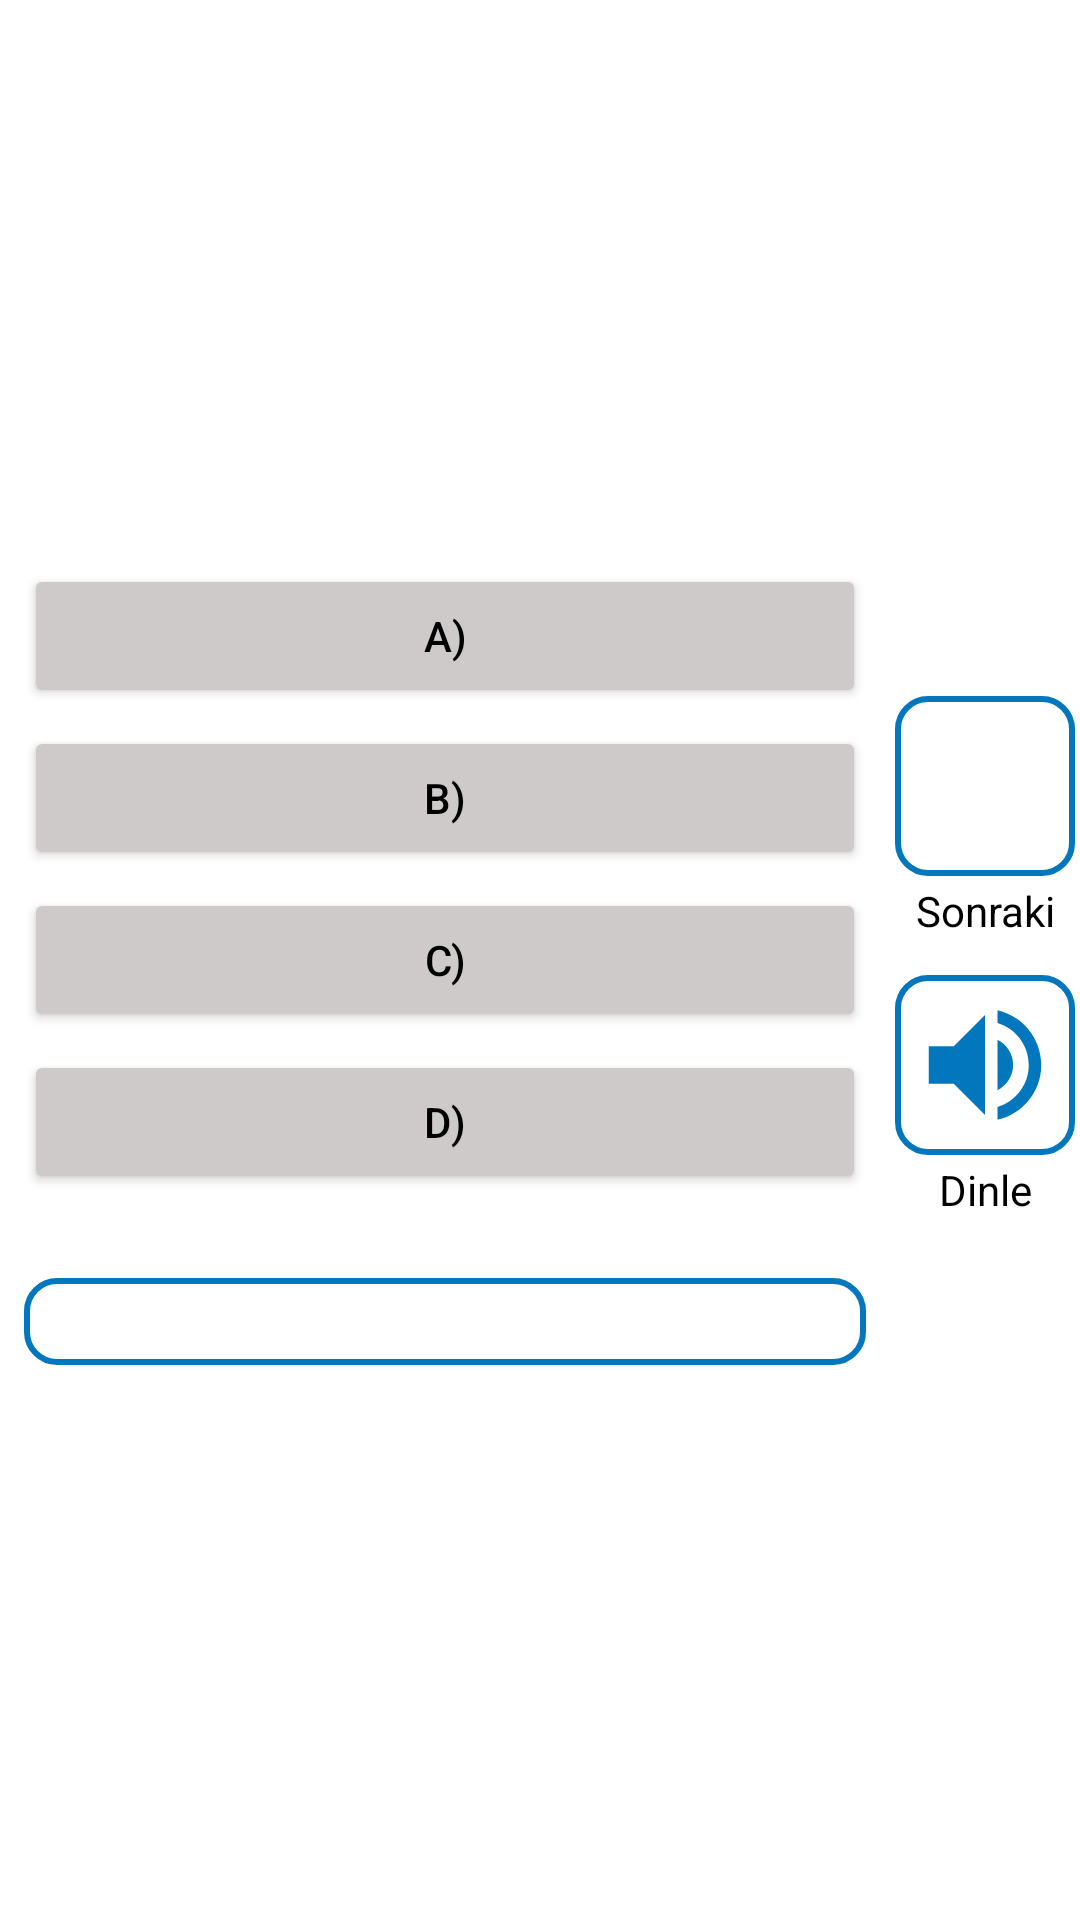

Icon bounding boxes for this 1080*1920 phone screenshot, format (x1, y1, x2, y2):
volume up: (895, 975, 1075, 1155)
